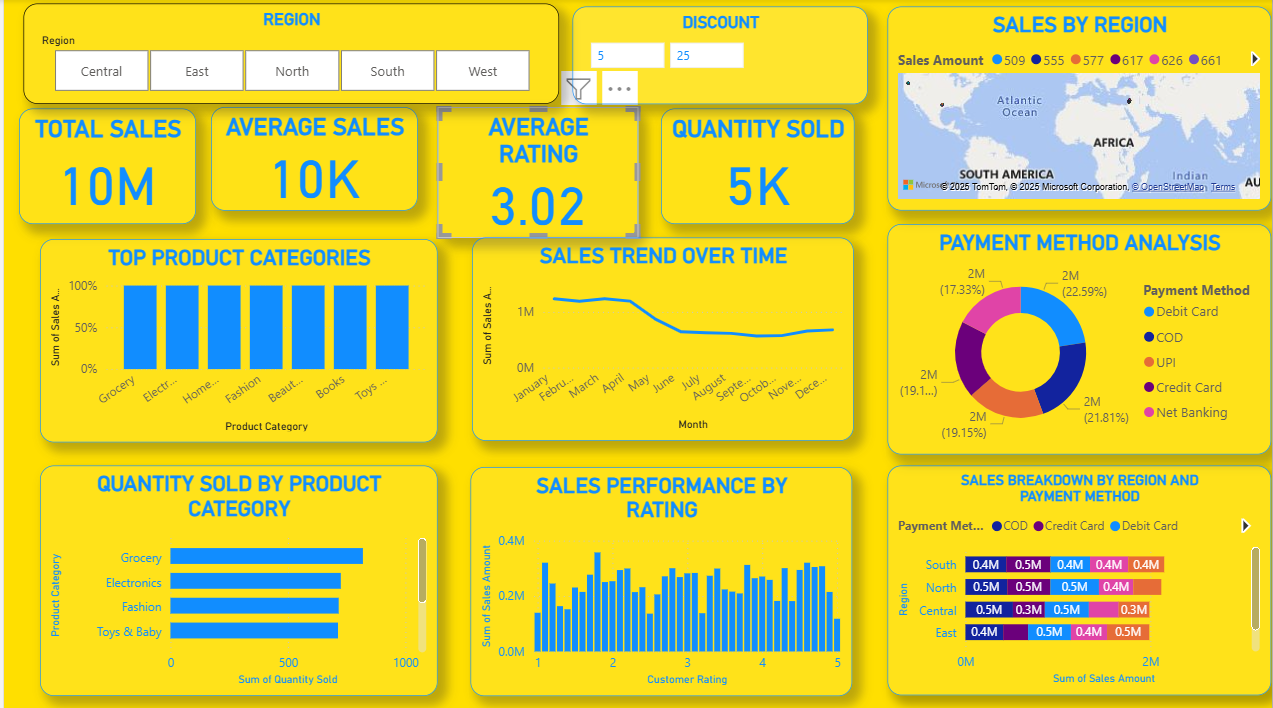

What the dashboard file says about the page in this screenshot:
{"tool":"powerbi","page":{"name":"Page 1","canvas":[1280,720],"ordinal":0},"visuals":[{"type":"card","title":"TOTAL SALES","fields":{"Values":["Sum(Sheet1.Sales Amount)"]},"box":[15.8,110.7,178.3,112.2],"z":0},{"type":"card","title":"AVERAGE SALES","fields":{"Values":["Avg(Sheet1.Sales Amount)"]},"box":[208.5,109.3,210,112.2],"z":1000},{"type":"card","title":"AVERAGE RATING","fields":{"Values":["Avg(Sheet1.Customer Rating)"]},"box":[437.2,109.3,202.8,113.6],"z":2000},{"type":"card","title":"QUANTITY SOLD","fields":{"Values":["Sum(Sheet1.Quantity Sold)"]},"box":[663,110.7,195.6,112.2],"z":3000},{"type":"map","title":"SALES BY REGION","fields":{"Category":["Sheet1.Region"],"Series":["Sheet1.Sales Amount"]},"box":[892,7.6,387.4,206],"z":4000},{"type":"hundredPercentStackedColumnChart","title":"TOP PRODUCT CATEGORIES","fields":{"Category":["Sheet1.Product Category"],"Y":["Sum(Sheet1.Sales Amount)"]},"box":[36,241.6,401.2,205.7],"z":5000},{"type":"lineChart","title":"SALES TREND OVER TIME","fields":{"Category":["Sheet1.Order Date.Variation.Date Hierarchy.Year","Sheet1.Order Date.Variation.Date Hierarchy.Quarter","Sheet1.Order Date.Variation.Date Hierarchy.Month","Sheet1.Order Date.Variation.Date Hierarchy.Day"],"Y":["Sum(Sheet1.Sales Amount)"]},"box":[473.1,240.2,385.4,205.7],"z":6000},{"type":"donutChart","title":"PAYMENT METHOD ANALYSIS","fields":{"Category":["Sheet1.Payment Method"],"Y":["Sum(Sheet1.Sales Amount)"]},"box":[892,226.8,387.4,232.4],"z":7000},{"type":"clusteredBarChart","title":"QUANTITY SOLD BY PRODUCT CATEGORY","fields":{"Category":["Sheet1.Product Category"],"Y":["Sum(Sheet1.Quantity Sold)"]},"box":[36,470.3,401.2,233],"z":8000},{"type":"clusteredColumnChart","title":"SALES PERFORMANCE BY RATING","fields":{"Y":["Sum(Sheet1.Sales Amount)"],"Category":["Sheet1.Customer Rating"]},"box":[470.3,471.7,385.4,231.5],"z":9000},{"type":"barChart","title":"SALES BREAKDOWN BY REGION AND PAYMENT METHOD","fields":{"Category":["Sheet1.Region"],"Y":["Sum(Sheet1.Sales Amount)"],"Series":["Sheet1.Payment Method"]},"box":[892,471,387,232],"z":10000},{"type":"slicer","title":"DISCOUNT","fields":{"Values":["Sheet1.Discount (%)"]},"box":[573.9,7.6,298.3,98.4],"z":11000},{"type":"slicer","title":"REGION","fields":{"Values":["Sheet1.Region"]},"box":[19.7,4.5,540.6,101.5],"z":12000}]}

Visuals, with their boxes in screenshot pixels (x1, y1, x2, y2), scaled from the page's 1280x720 canvas onto the 1273x708 screenshot:
"TOTAL SALES" card: region(16, 109, 193, 219)
"AVERAGE SALES" card: region(207, 107, 416, 218)
"AVERAGE RATING" card: region(435, 107, 636, 219)
"QUANTITY SOLD" card: region(659, 109, 854, 219)
"SALES BY REGION" map: region(887, 7, 1272, 210)
"TOP PRODUCT CATEGORIES" hundredPercentStackedColumnChart: region(36, 238, 435, 440)
"SALES TREND OVER TIME" lineChart: region(471, 236, 854, 438)
"PAYMENT METHOD ANALYSIS" donutChart: region(887, 223, 1272, 452)
"QUANTITY SOLD BY PRODUCT CATEGORY" clusteredBarChart: region(36, 462, 435, 692)
"SALES PERFORMANCE BY RATING" clusteredColumnChart: region(468, 464, 851, 691)
"SALES BREAKDOWN BY REGION AND PAYMENT METHOD" barChart: region(887, 463, 1272, 691)
"DISCOUNT" slicer: region(571, 7, 867, 104)
"REGION" slicer: region(20, 4, 557, 104)
